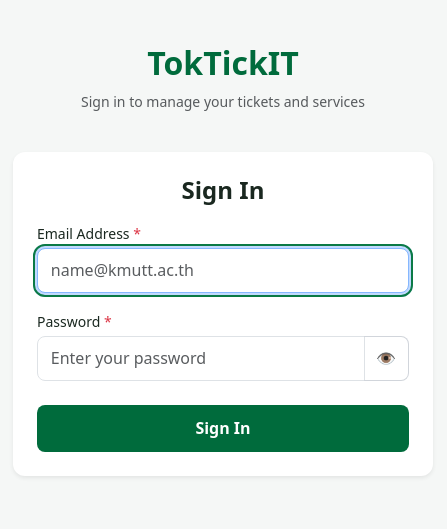
Scenario: UI-01: Login Form Validation & Busy States (FR-01, AC-3.1) › displays safe error banner on authentication failure (BR-04, AC-3.1)
The width and height of the screenshot is (447, 529).
Type "alex.turner@toktickit.kmutt.ac.th" into the field labelled "Email Address *" at [223, 270], box [37,248,409,293]
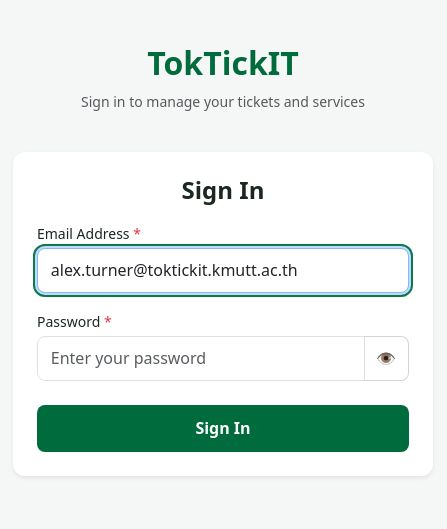
Type "WrongPassword123!" into the password field labelled "Password *" at [201, 358], box [37,336,365,381]
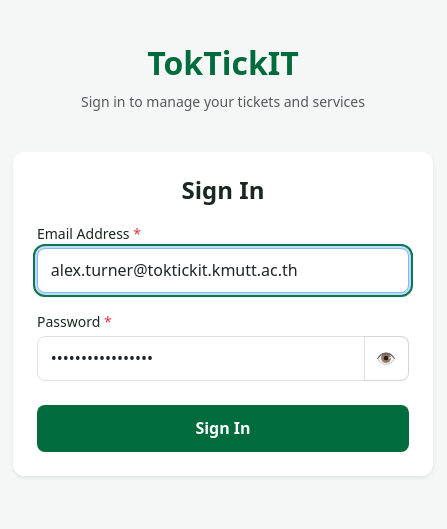
Click the button "Sign In" at [223, 428], box [37,405,409,452]
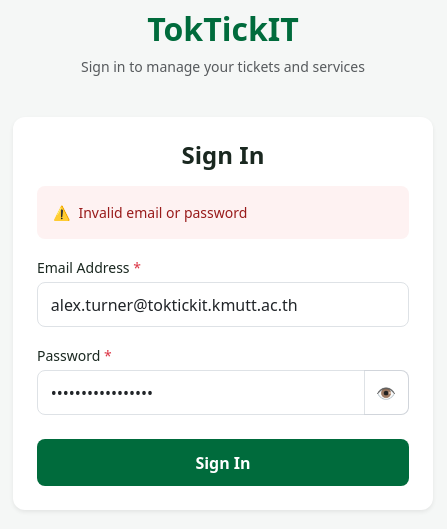
Expected: the message shows "Invalid email or password", [78,203,247,222]
